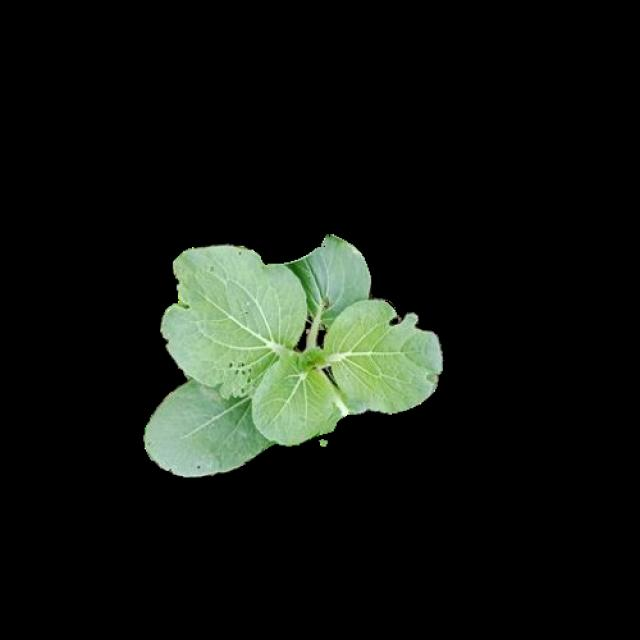not-mature: (149, 235, 444, 478)
unhealthy: (160, 244, 311, 397), (328, 298, 443, 415)
